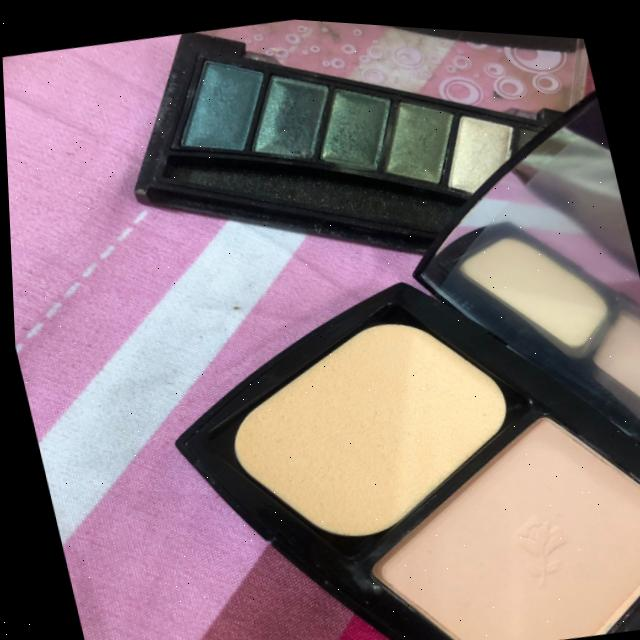blush: (325, 359, 640, 640)
powder: (189, 285, 540, 564)
